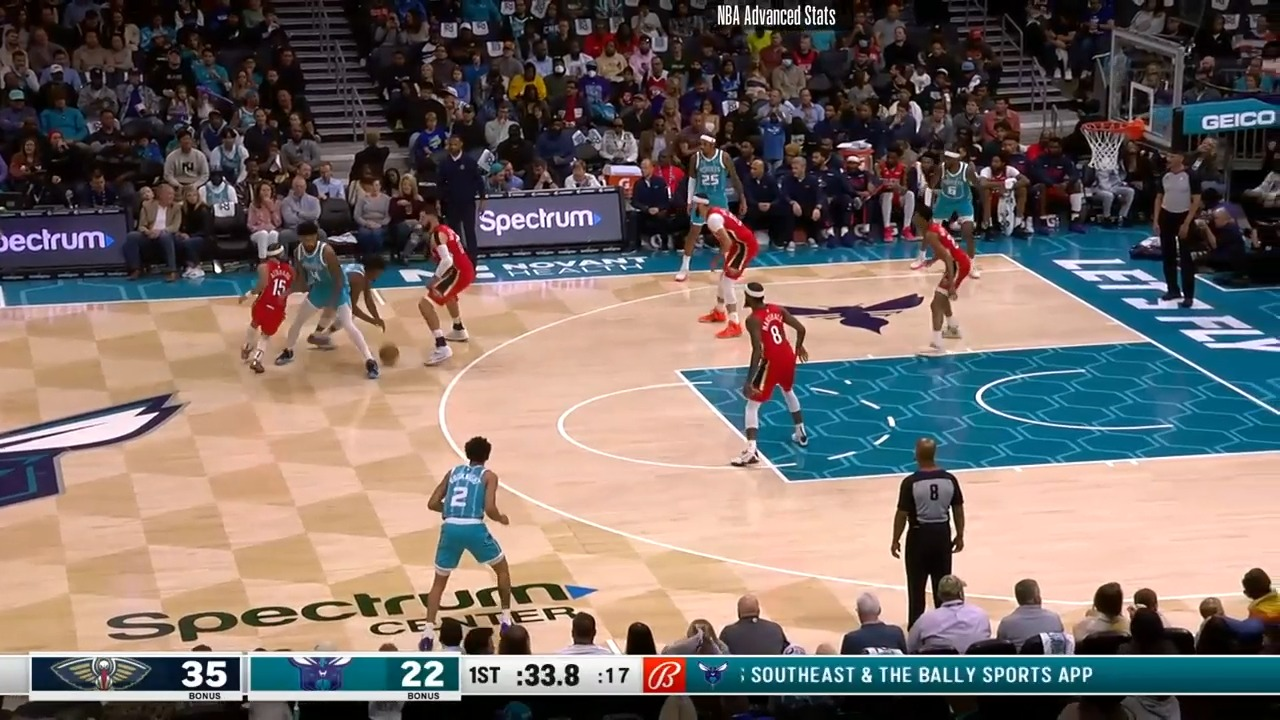net: (1081, 110, 1148, 176)
player: (414, 436, 523, 614), (712, 289, 809, 471), (275, 222, 380, 385), (669, 125, 754, 283), (688, 191, 763, 341), (410, 199, 474, 367), (911, 142, 987, 281), (239, 239, 313, 376), (307, 242, 396, 350), (918, 213, 981, 350)
referee: (891, 438, 976, 628), (1149, 149, 1202, 315)
